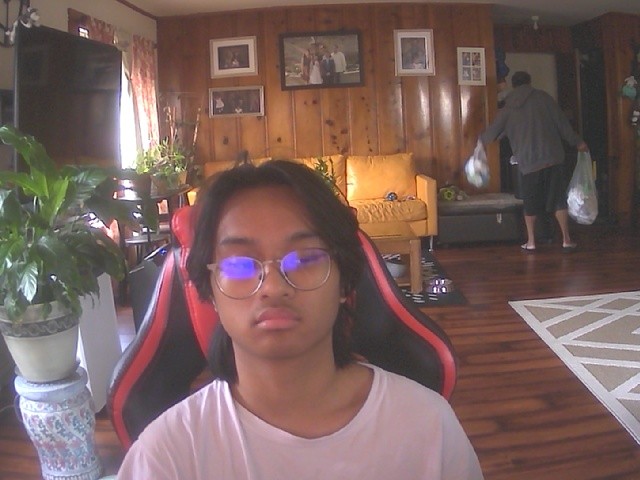neutral: (200, 165, 355, 364)
